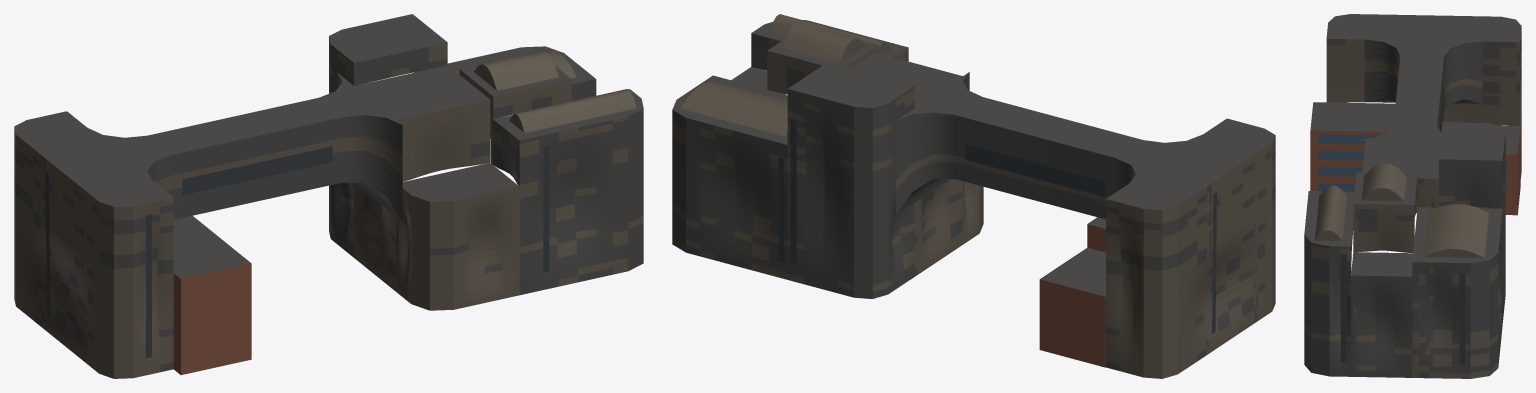
The model's file is studio-bell-far.glb.
The picture shows the model from 3 angles, left to right: view 1: azimuth 30°, elevation 25°; view 2: azimuth 150°, elevation 25°; view 3: azimuth 270°, elevation 25°; orthographic projection. The views are drawn at different scales.
Visible parts, largest first — view 1: studio-bell-0-tileBronze, studio-bell-0-tileDark, studio-bell-0-roof, studio-bell-0-brick, studio-bell-0-glow; view 2: studio-bell-0-tileDark, studio-bell-0-tileBronze, studio-bell-0-roof, studio-bell-0-brick, studio-bell-0-glow; view 3: studio-bell-0-tileDark, studio-bell-0-roof, studio-bell-0-tileBronze, studio-bell-0-brick, studio-bell-0-glass, studio-bell-0-glow.
Boxes of the visible parts, x1=… form: studio-bell-0-tileBronze: x1=14, y1=42, x2=643, y2=378; studio-bell-0-tileDark: x1=14, y1=37, x2=643, y2=372; studio-bell-0-roof: x1=14, y1=14, x2=643, y2=278; studio-bell-0-brick: x1=173, y1=263, x2=251, y2=374; studio-bell-0-glow: x1=45, y1=146, x2=549, y2=358; studio-bell-0-tileDark: x1=672, y1=33, x2=1275, y2=370; studio-bell-0-tileBronze: x1=672, y1=14, x2=1275, y2=378; studio-bell-0-roof: x1=672, y1=20, x2=1275, y2=296; studio-bell-0-brick: x1=1039, y1=224, x2=1105, y2=367; studio-bell-0-glow: x1=778, y1=118, x2=1216, y2=333; studio-bell-0-tileDark: x1=1304, y1=38, x2=1521, y2=378; studio-bell-0-roof: x1=1304, y1=14, x2=1521, y2=276; studio-bell-0-tileBronze: x1=1304, y1=28, x2=1521, y2=378; studio-bell-0-brick: x1=1310, y1=111, x2=1520, y2=215; studio-bell-0-glass: x1=1318, y1=134, x2=1507, y2=191; studio-bell-0-glow: x1=1341, y1=86, x2=1503, y2=364.
Bounding box in the file's own units: 98.04 × 34 × 40.85.
